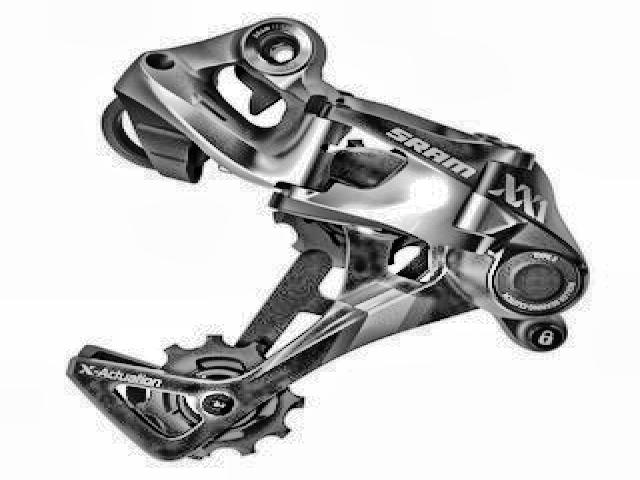rear_derailleur: (62, 15, 594, 467)
